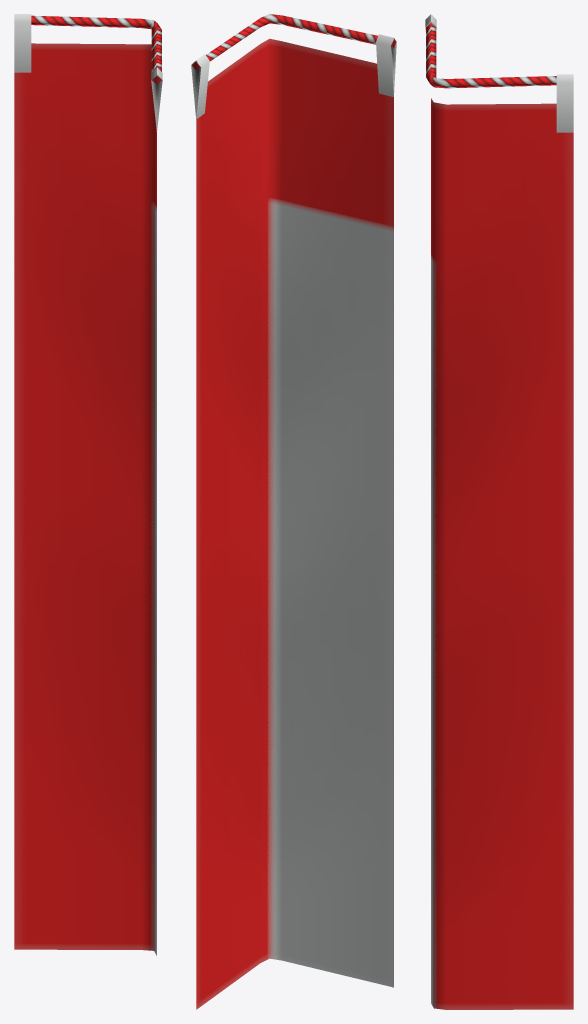
File: set_redandwhite_curtain_corner_04.fbx
3 renders of one model, left to right at view 1: azimuth 90°, elevation 25°; view 2: azimuth 150°, elevation 25°; view 3: azimuth 270°, elevation 25°, orthographic.
Visible parts, largest first — view 1: set_redandwhite_curtain_corner_04; view 2: set_redandwhite_curtain_corner_04; view 3: set_redandwhite_curtain_corner_04.
Part boxes in pixels (<box>): set_redandwhite_curtain_corner_04: <box>14,14,162,955</box>; set_redandwhite_curtain_corner_04: <box>191,14,396,1009</box>; set_redandwhite_curtain_corner_04: <box>425,14,573,1009</box>.
Size of the model in its own units: 26.01 by 181 by 26.01.
